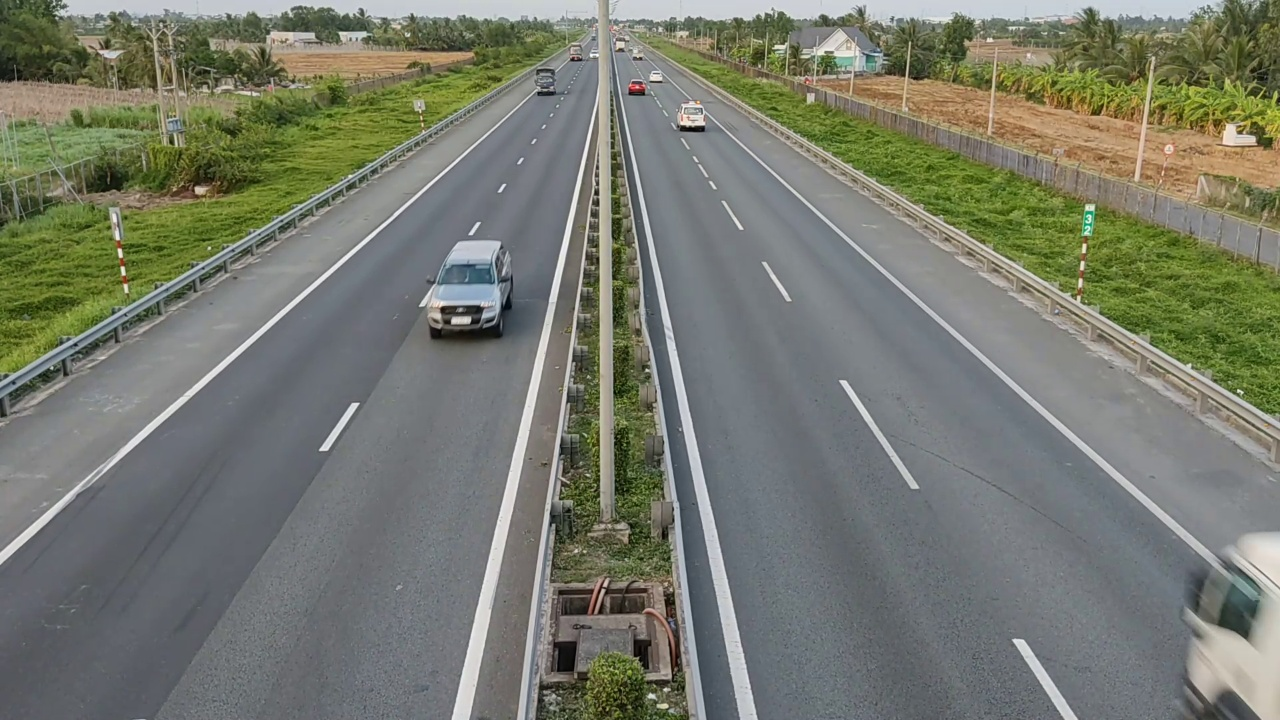car: (1178, 531, 1280, 716), (421, 234, 517, 346), (675, 101, 707, 132)
